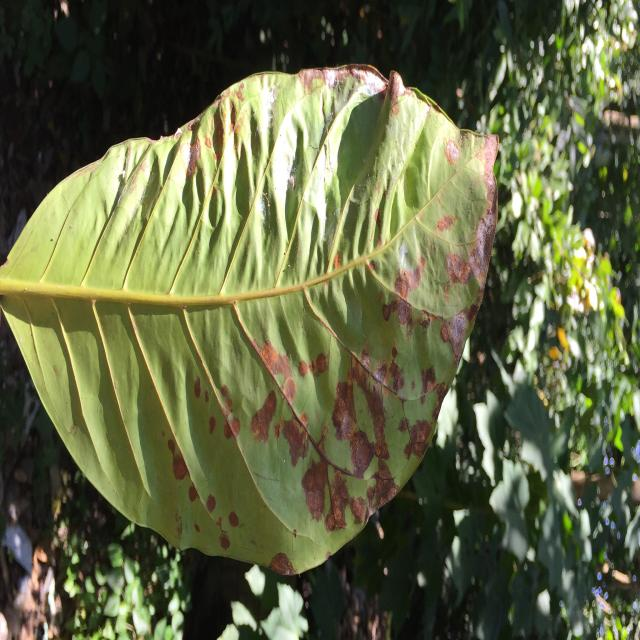Enfermedad-Mancha-de-hierro: (0, 64, 500, 578)
